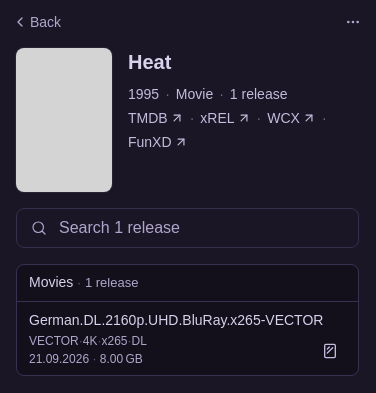
Test: TitleView › WCX › gives a release both list one row, checking every WCX copy at once
Expected: the text "8.00 GB" is shown, [100,352,143,366]
// One Check for both copies: the server picks among their mirrors.
Step 1. Click the button named "Check its mirrors and add the first that works: heat.1995.ge" → [330, 350], box [314,334,346,366]
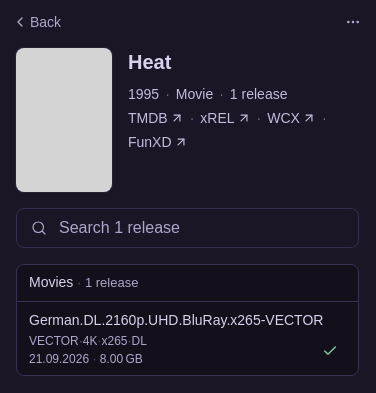
Expected: the number of pictures named "In the Queue" is 2
